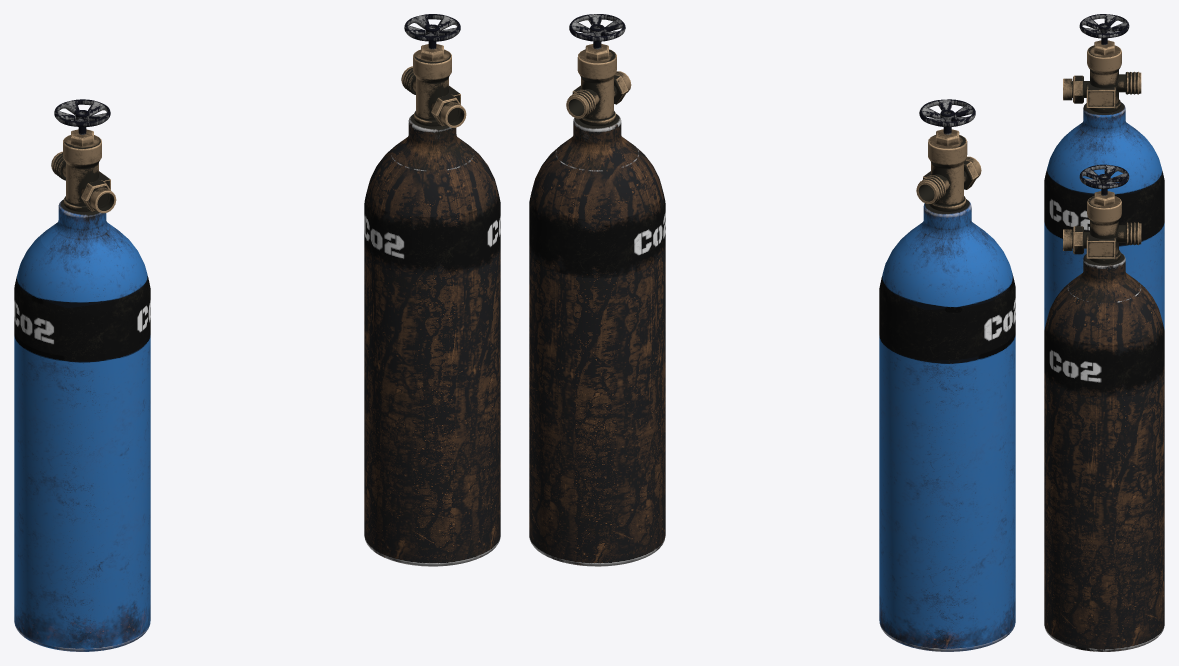
File: carbon_dioxide_capsule-_2mb.glb
3 renders of one model, left to right at view 1: azimuth 30°, elevation 25°; view 2: azimuth 150°, elevation 25°; view 3: azimuth 270°, elevation 25°, orthographic. The views are drawn at different scales.
Visible parts, largest first — view 1: Carbon_dioxide_capsule01, Carbon_dioxide_capsule02; view 2: Carbon_dioxide_capsule01, Carbon_dioxide_capsule02; view 3: Carbon_dioxide_capsule01, Carbon_dioxide_capsule02.
Boxes of the visible parts, x1,y1,x2,y2 form: Carbon_dioxide_capsule01: (364, 14, 500, 566); Carbon_dioxide_capsule02: (14, 99, 150, 651); Carbon_dioxide_capsule01: (529, 14, 665, 566); Carbon_dioxide_capsule02: (879, 99, 1015, 651); Carbon_dioxide_capsule01: (1044, 164, 1164, 651); Carbon_dioxide_capsule02: (1044, 14, 1164, 329).
Bounding box in the file's own units: 0.7359 × 0.7719 × 0.1853.
2 materials, 2 textured.
